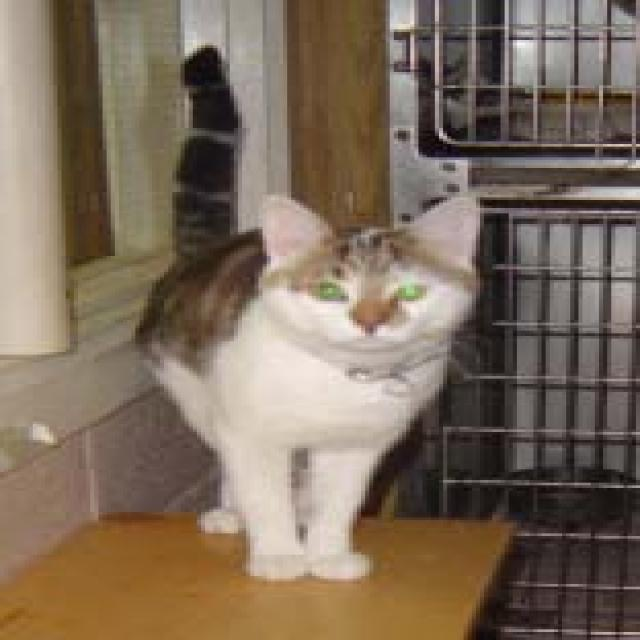Cats: (131, 189, 480, 582)
